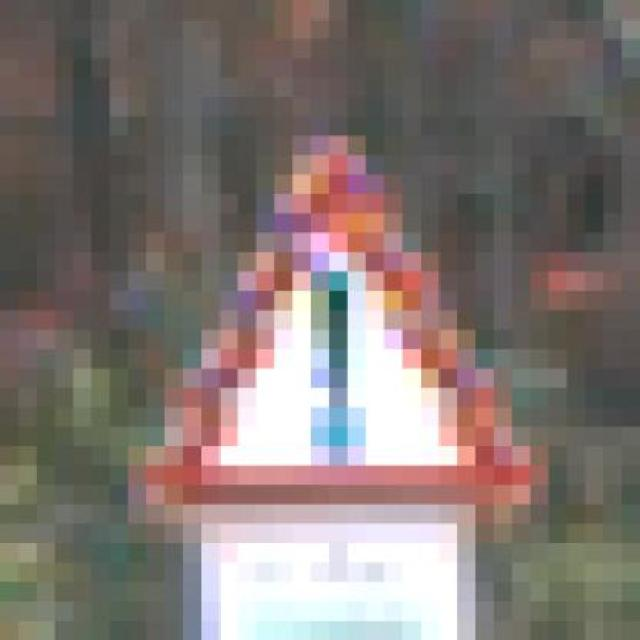Attention Please-: (73, 96, 549, 524)
